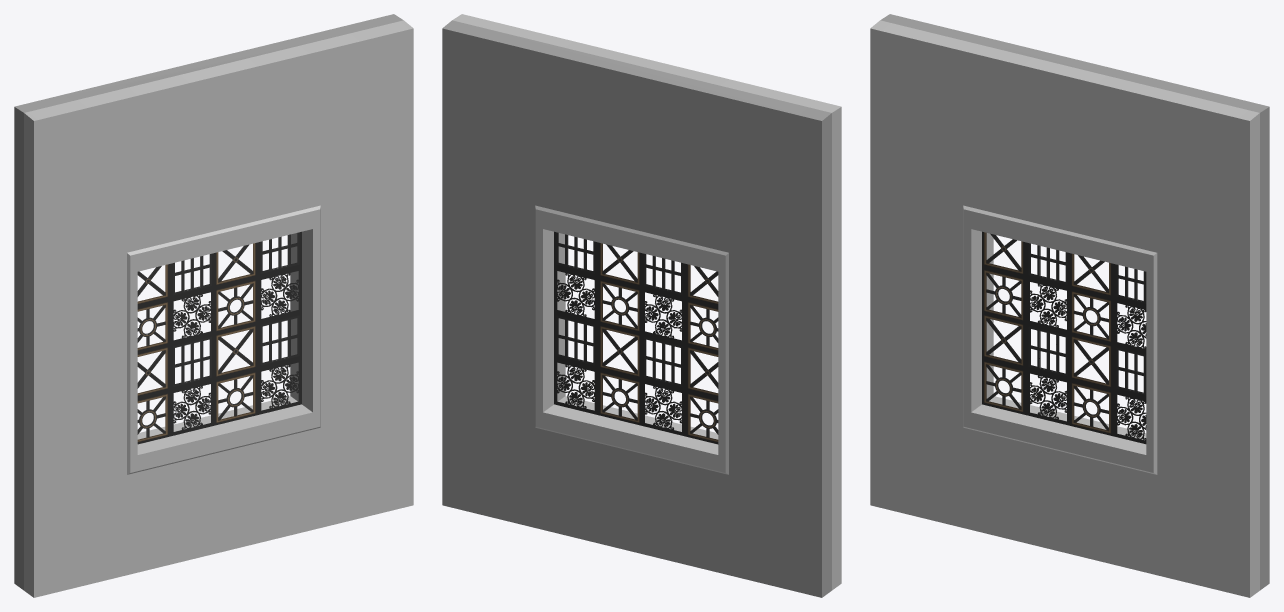
File: SM_Bld_Wall_Window_01.fbx
3 renders of one model, left to right at view 1: azimuth 30°, elevation 25°; view 2: azimuth 150°, elevation 25°; view 3: azimuth 330°, elevation 25°, orthographic.
Visible parts, largest first — view 1: SM_Bld_Wall_Window_01; view 2: SM_Bld_Wall_Window_01; view 3: SM_Bld_Wall_Window_01.
Part boxes in pixels (x1,y1,x2,y2): SM_Bld_Wall_Window_01: (14,14,413,597); SM_Bld_Wall_Window_01: (442,14,841,597); SM_Bld_Wall_Window_01: (870,14,1269,597).
Size of the model in its own units: 250 by 301 by 25.56.
